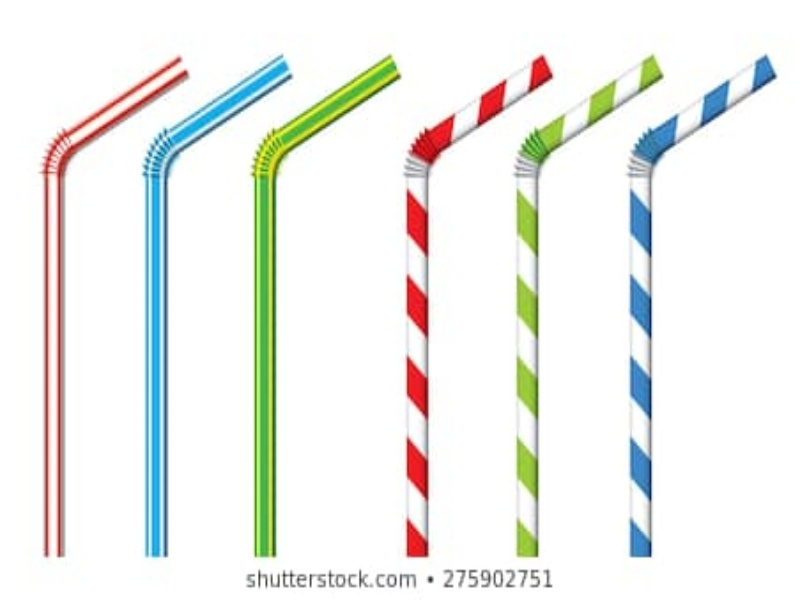straw: (138, 49, 296, 561), (623, 51, 780, 563), (251, 51, 405, 564), (509, 51, 663, 563), (400, 53, 554, 563), (40, 55, 189, 568)
